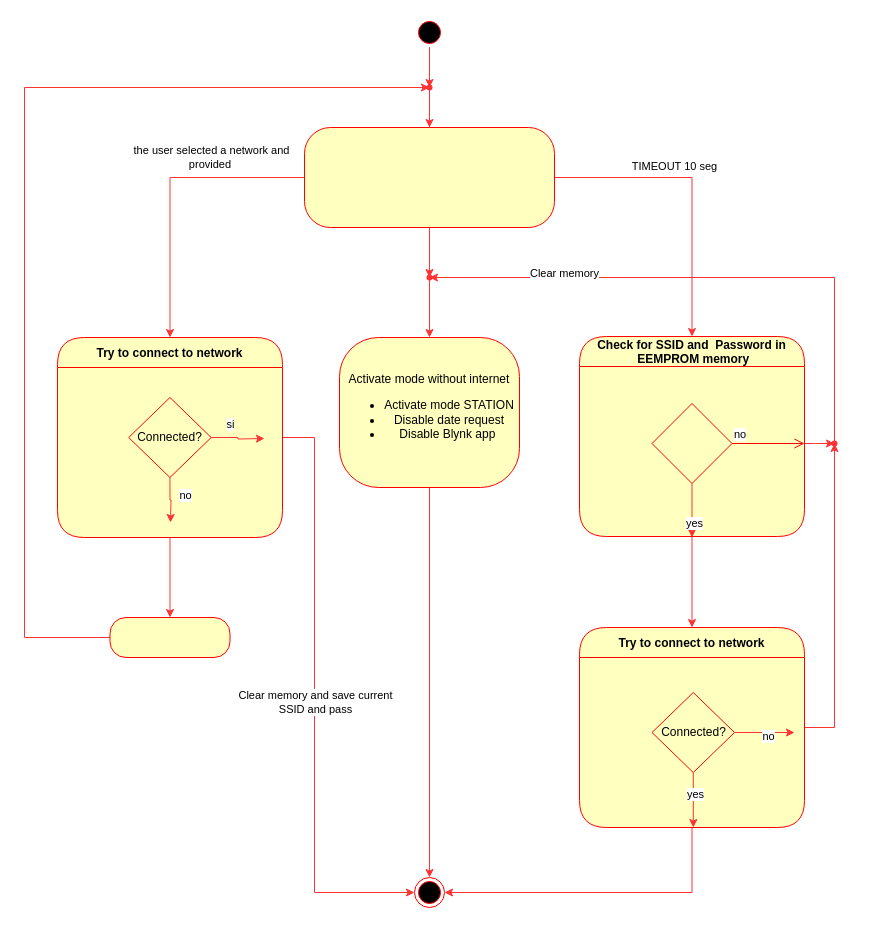
This 872x925 diagram has some shape labels left out. The centre of each missing label's shape, as x and y in pixels:
"DIsplay Networks available and wait for the user to select" goes at [429,177].
"Is there Data" goes at [691,443].
"Reset micro" goes at [169,637].
